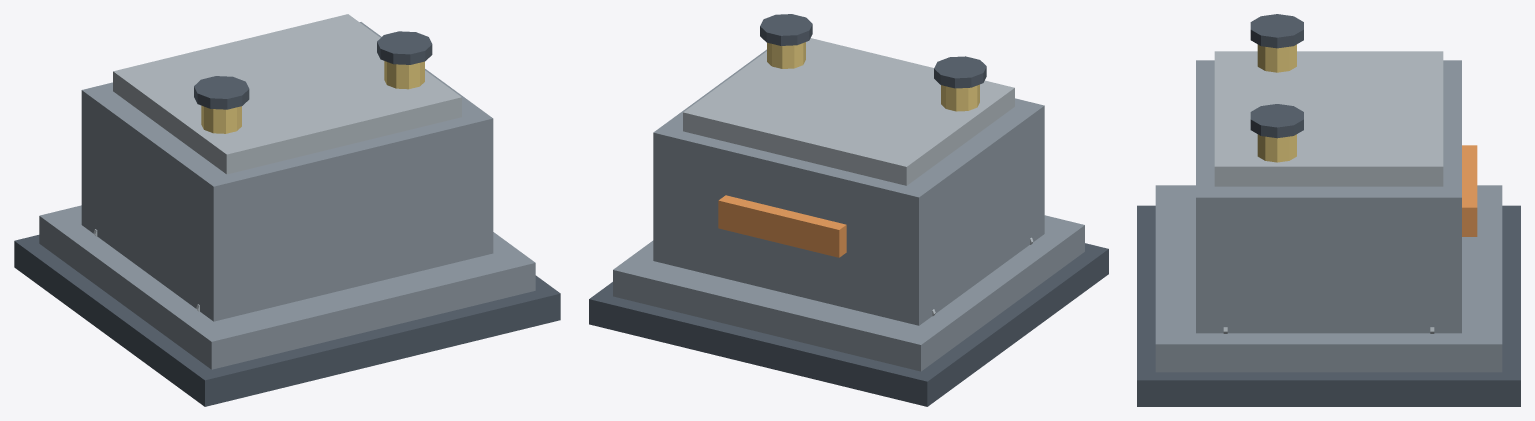
File: engineering.glb
3 views of the same model, side by side, from view 1: azimuth 30°, elevation 25°; view 2: azimuth 150°, elevation 25°; view 3: azimuth 270°, elevation 25° (orthographic). The views are drawn at different scales.
Visible parts, largest first — view 1: detail_002, detail_008, detail_001, detail_000, detail_005, detail_007, detail_004, detail_006; view 2: detail_002, detail_008, detail_001, detail_000, detail_003, detail_007, detail_005, detail_004, detail_006; view 3: detail_002, detail_008, detail_001, detail_000, detail_005, detail_007, detail_003, detail_004, detail_006.
Boxes of the visible parts, <box> form: detail_002: <box>81,22,493,321</box>; detail_008: <box>113,14,461,174</box>; detail_001: <box>39,205,535,369</box>; detail_000: <box>14,235,560,406</box>; detail_005: <box>194,76,249,109</box>; detail_007: <box>377,31,432,64</box>; detail_004: <box>201,105,241,133</box>; detail_006: <box>384,61,424,89</box>; detail_002: <box>653,49,1044,325</box>; detail_008: <box>683,38,1014,185</box>; detail_001: <box>613,215,1084,371</box>; detail_000: <box>589,243,1108,406</box>; detail_003: <box>718,195,846,257</box>; detail_007: <box>760,14,812,45</box>; detail_005: <box>934,56,986,88</box>; detail_004: <box>941,84,979,111</box>; detail_006: <box>767,42,805,68</box>; detail_002: <box>1196,60,1461,333</box>; detail_008: <box>1214,51,1443,186</box>; detail_001: <box>1155,185,1502,372</box>; detail_000: <box>1137,205,1520,406</box>; detail_005: <box>1250,14,1303,48</box>; detail_007: <box>1250,104,1303,138</box>; detail_003: <box>1462,145,1477,236</box>; detail_004: <box>1257,44,1296,72</box>; detail_006: <box>1257,134,1296,162</box>.
Size of the model in its own units: 2.8 by 1.86 by 2.6.
